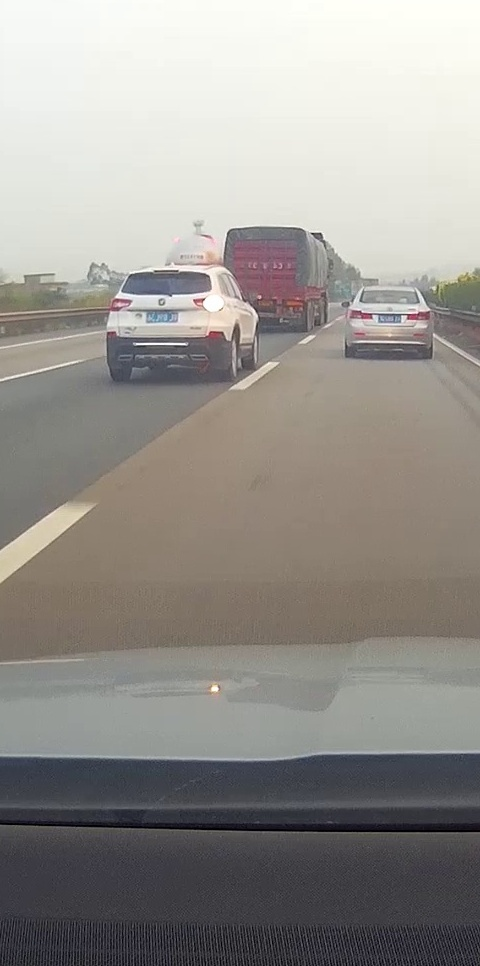L_light: (108, 298, 133, 311), (348, 309, 373, 319)
R_light: (193, 297, 224, 308), (407, 311, 430, 320)
T_light: (154, 269, 178, 273), (386, 288, 398, 291)
day-no: (346, 285, 432, 359)
day-right: (106, 265, 229, 382)
